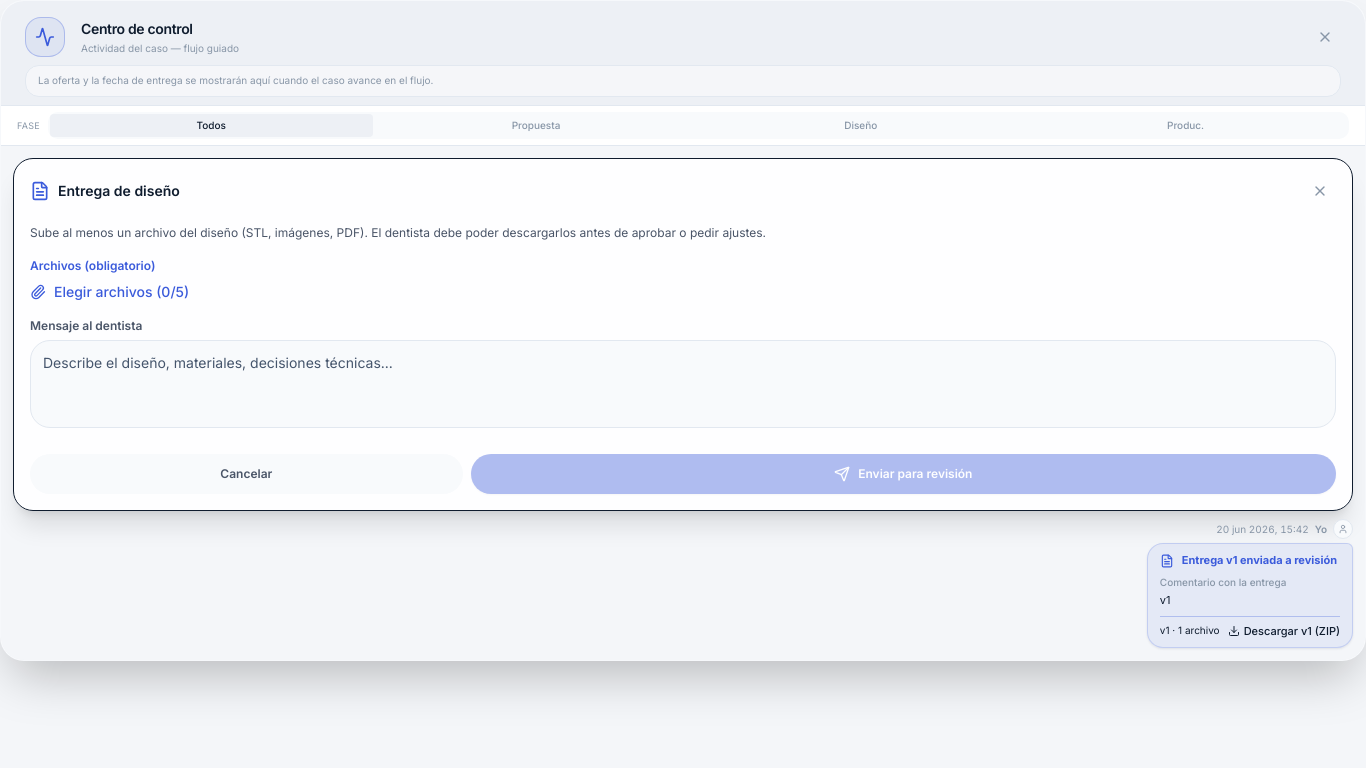
Test case: UnifiedCaseHub › colapsa el panel de entrega con Cerrar
This screenshot has width=1366, height=768.
Click the button named "cerrar". click: (1320, 191)
box: [1304,175,1336,207]
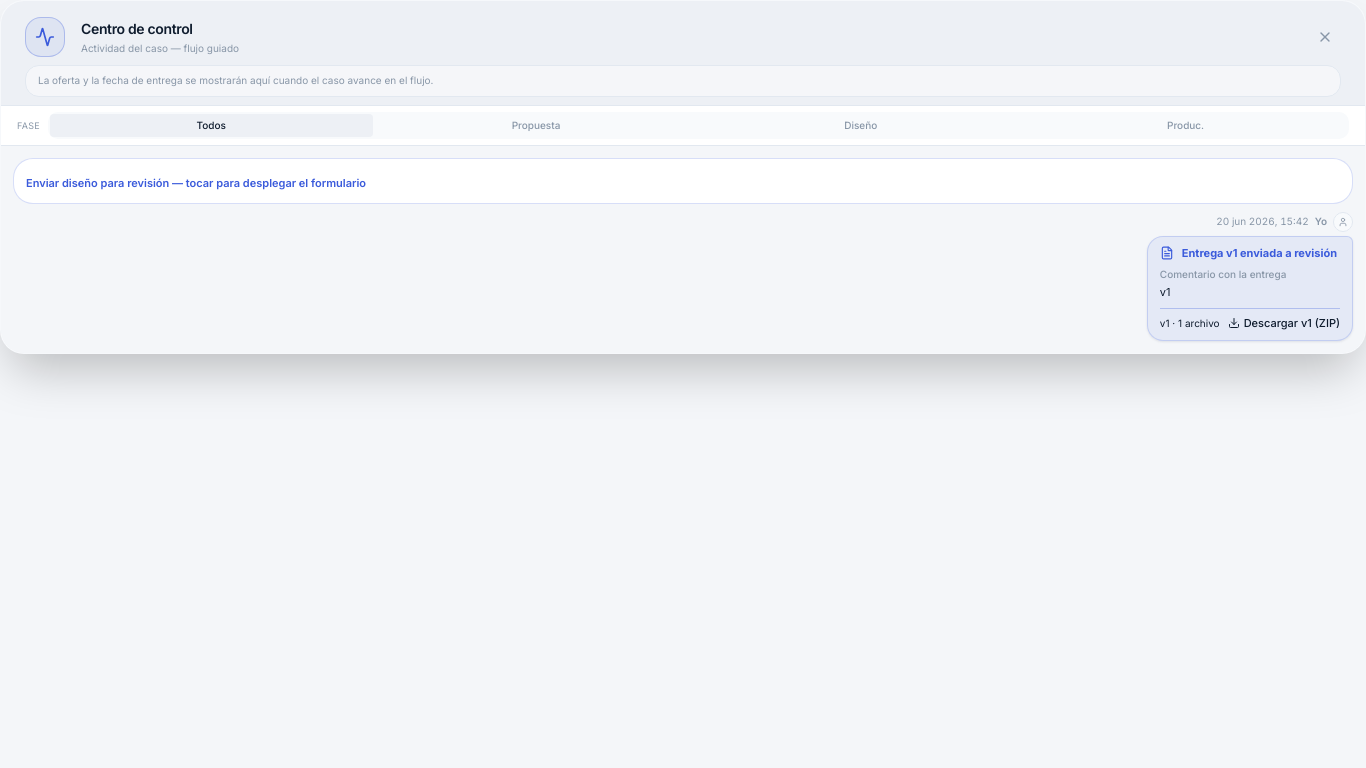
Check: the heading "Entrega de diseño" is gone
Check: the element with test id "uch-delivery-collapsed" is shown, box [13,158,1353,204]
